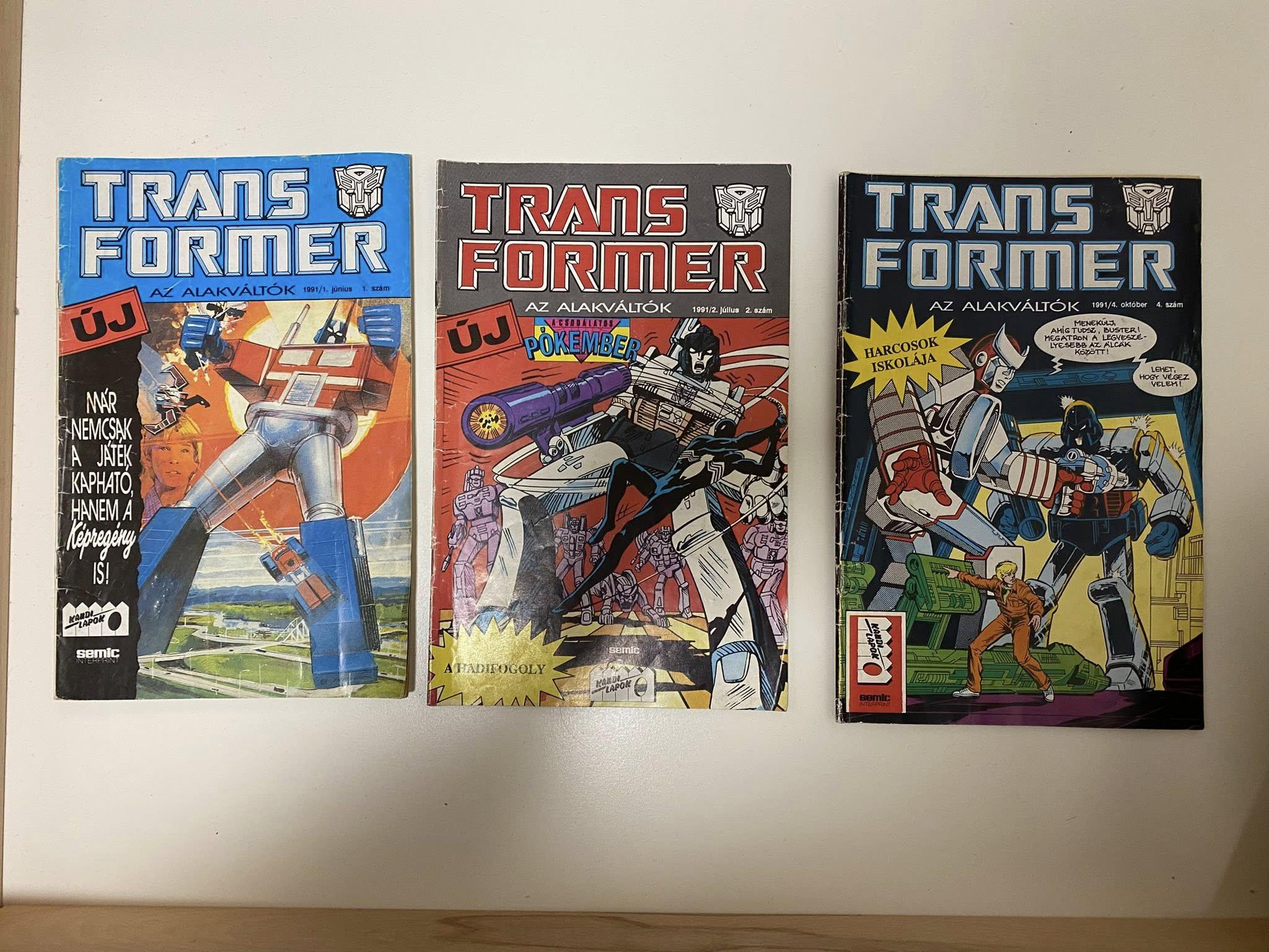comic: (838, 174, 1202, 728), (429, 161, 793, 709), (57, 153, 411, 698)
